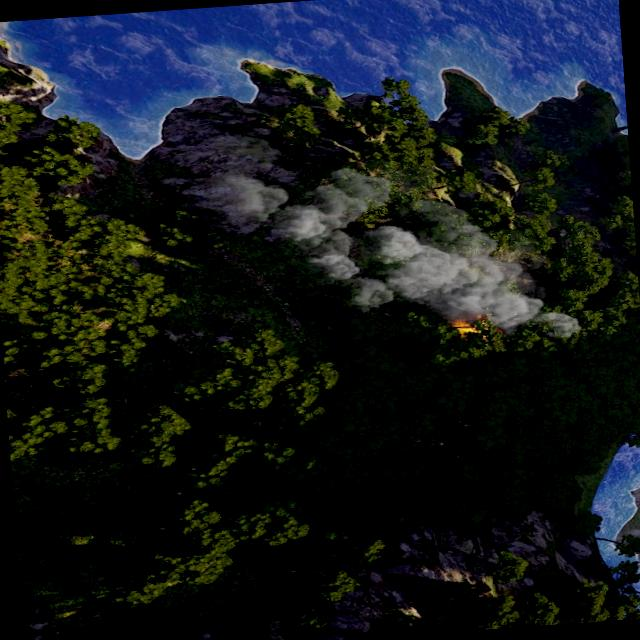fire: (449, 318, 478, 334)
smoke: (212, 131, 583, 361)
